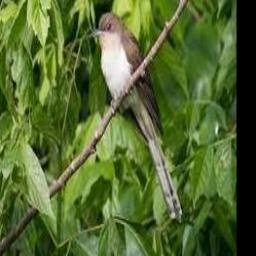Cuckoo: (91, 12, 184, 220)
